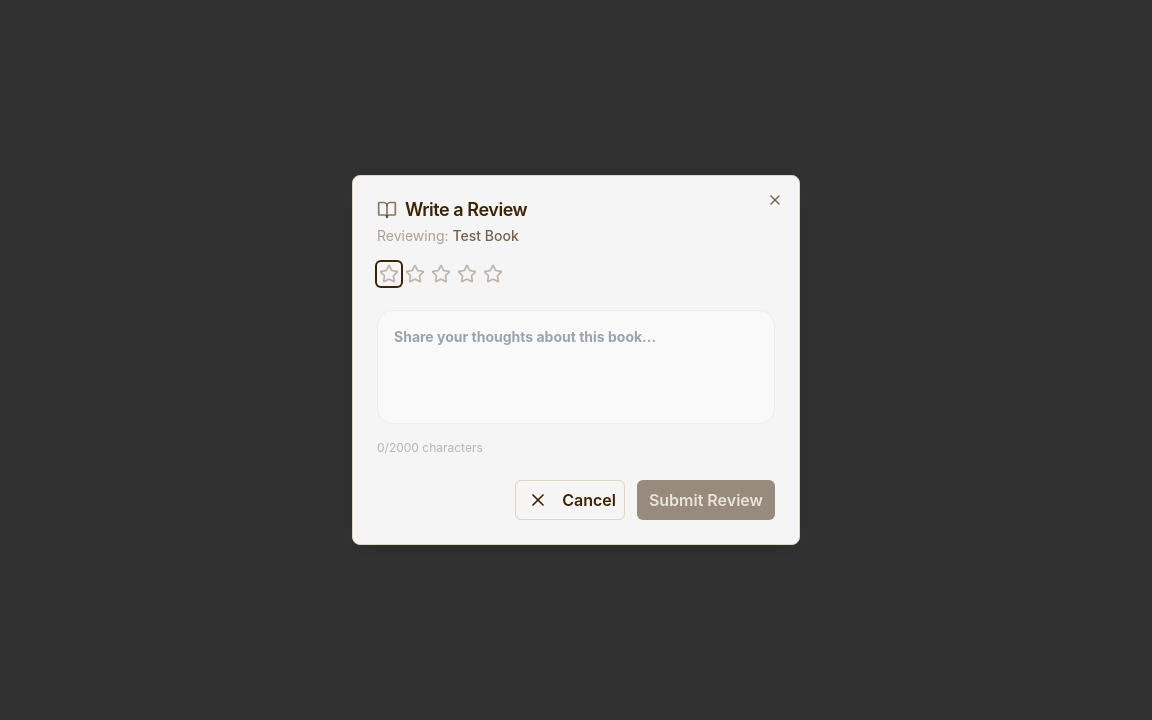
Scenario: ReviewSubmissionDialog › disables submit button while submitting
The image size is (1152, 720).
Click the radio button named "1 star". click: {"x": 389, "y": 274}
box: [377,262,401,286]
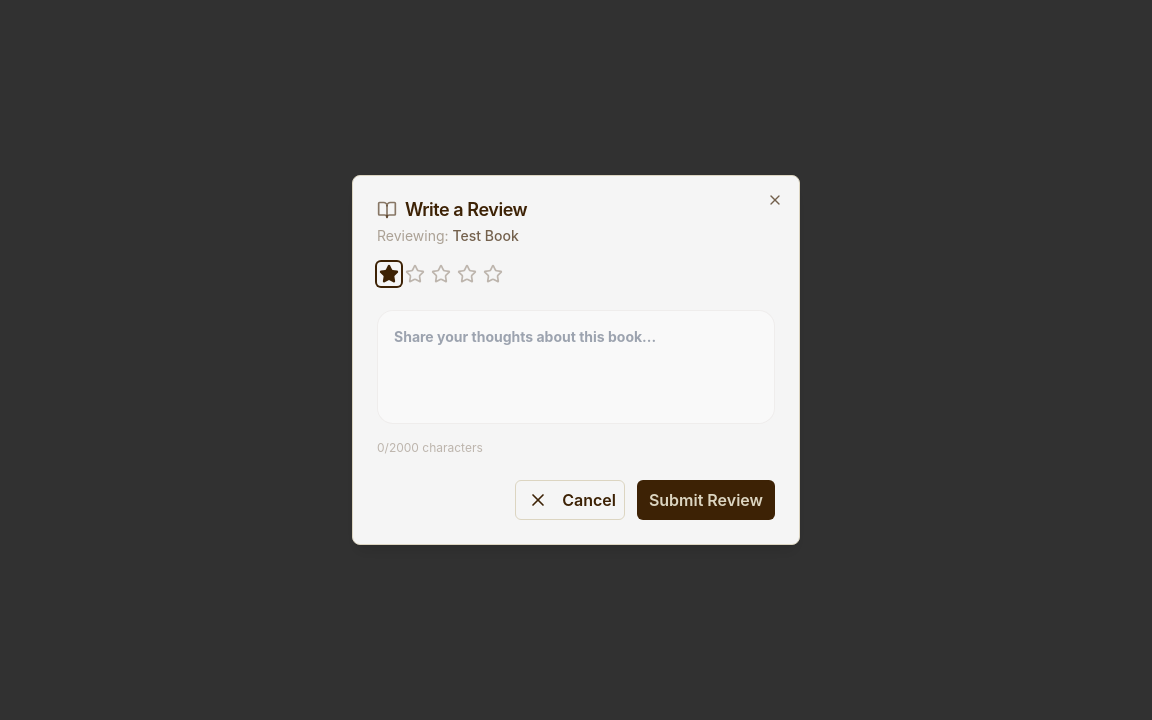
Type "Test" into the text box with placeholder "Share your thoughts about this book...". click: {"x": 576, "y": 367}
box: [377,310,775,424]
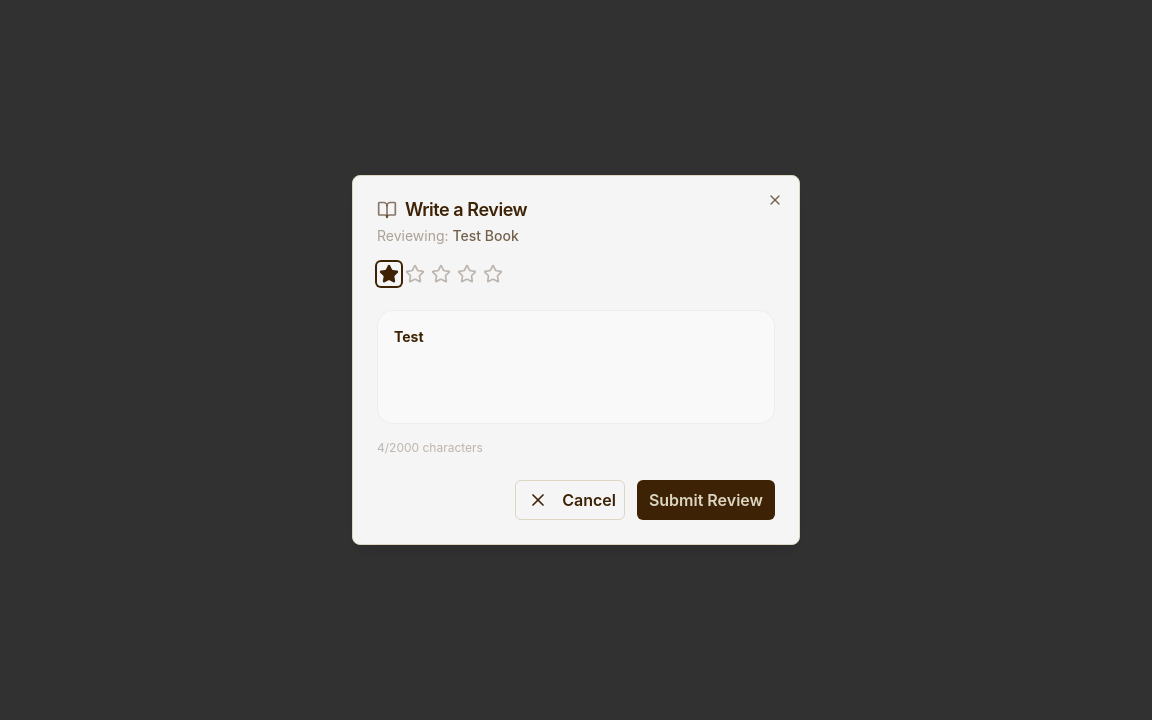
Click the button "Submit Review". click: {"x": 706, "y": 500}
box: [637,480,775,520]
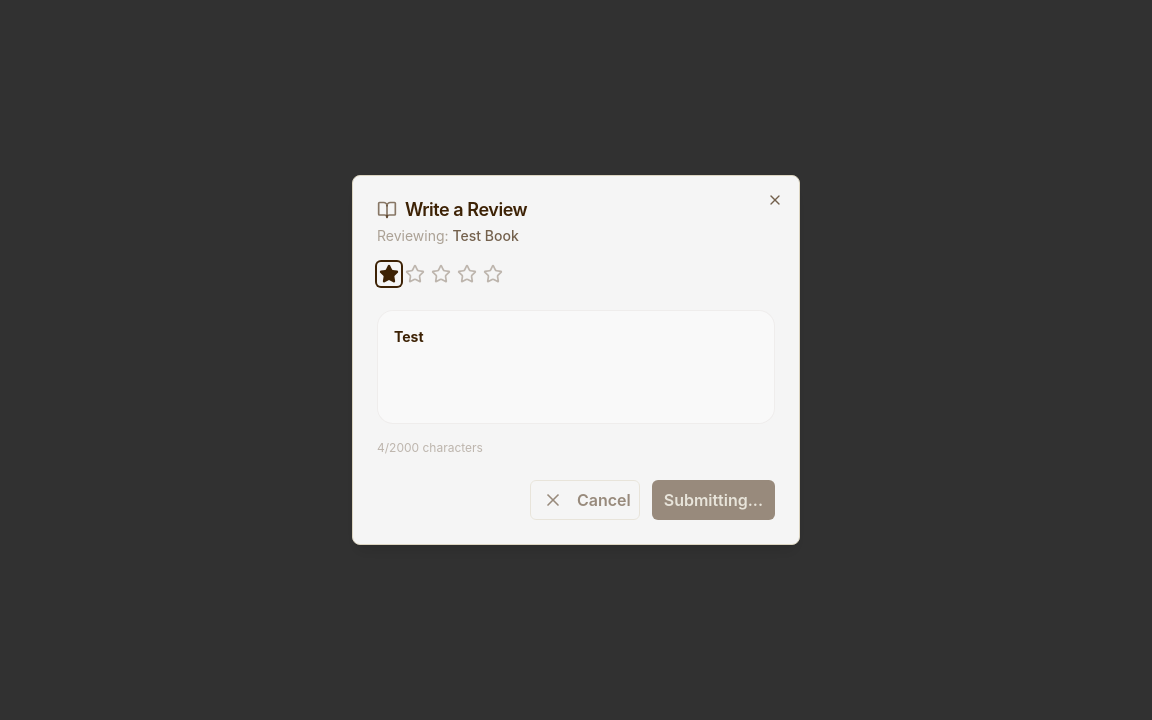
Now the button "Submitting..." is disabled, box [652,480,775,520]
